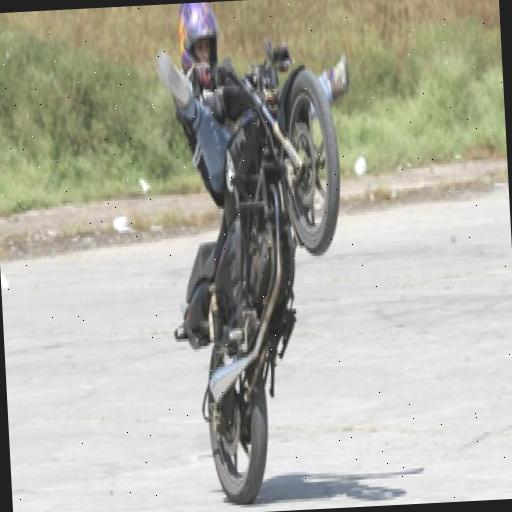helmet: (123, 0, 358, 482)
